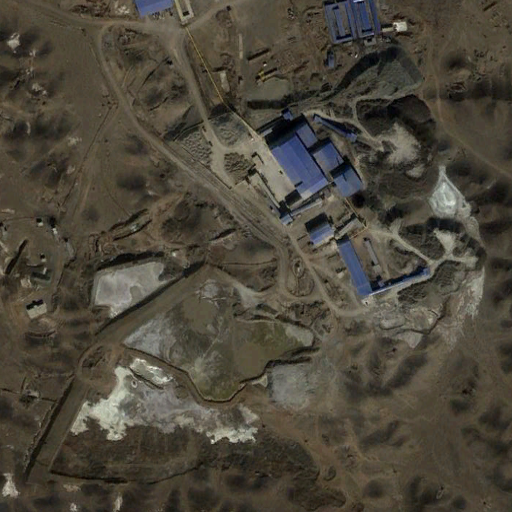tp: (97, 255, 318, 402)
